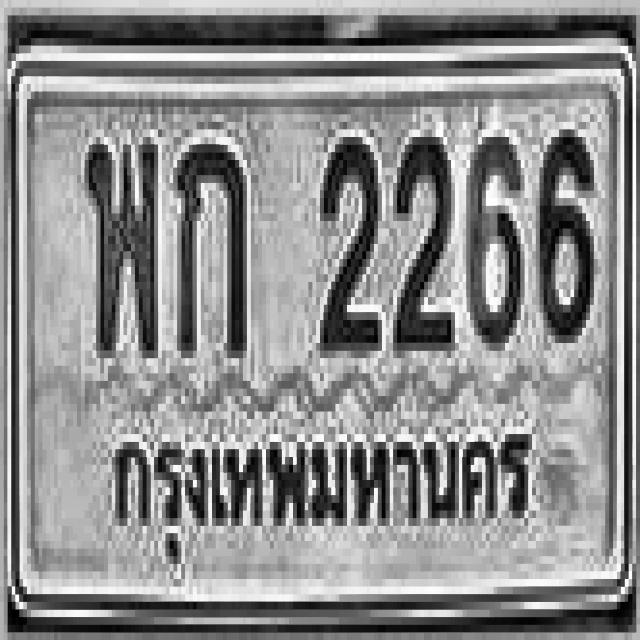license-plate: (8, 47, 633, 622)
